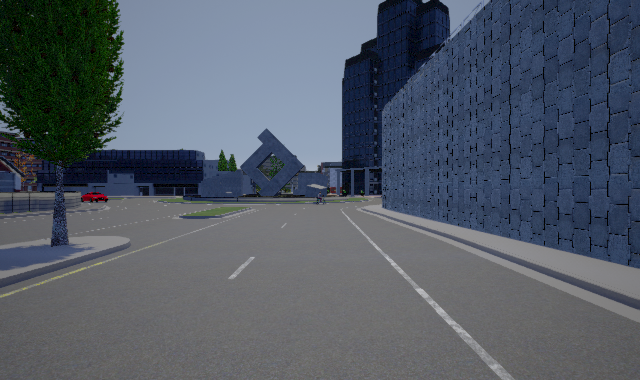bike: (311, 192, 330, 205)
vehicle: (80, 190, 109, 202)
